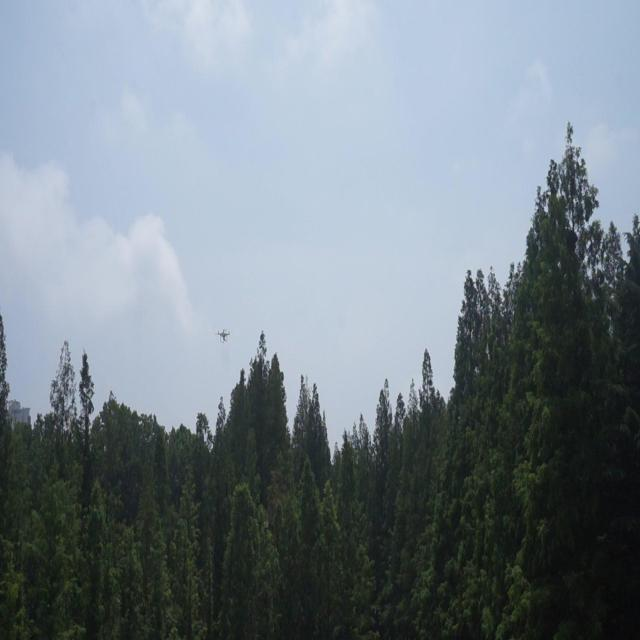drone: (215, 323, 233, 348)
